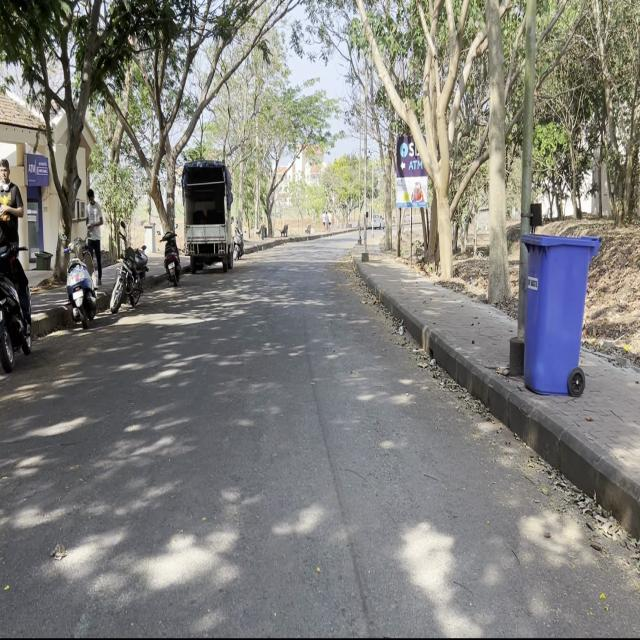Object: (178, 152, 238, 281), (60, 232, 104, 334), (1, 247, 37, 358), (110, 226, 150, 312), (158, 229, 182, 293)
Road: (5, 234, 633, 632)
